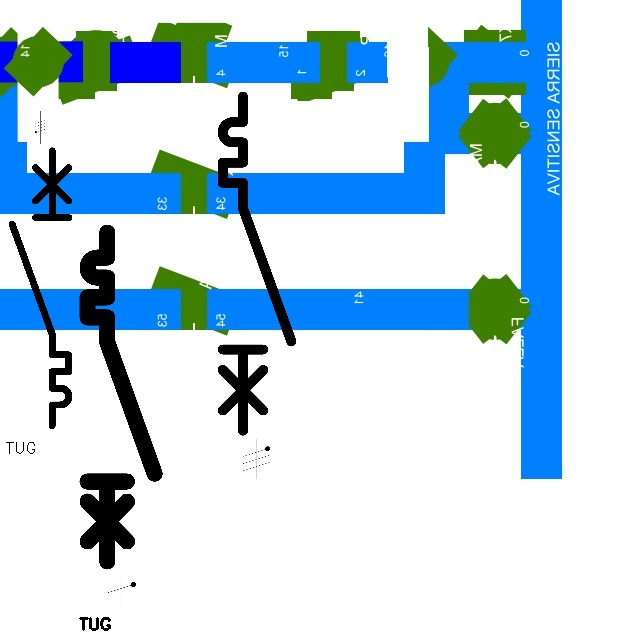interruptor_termomagnetico: (214, 88, 300, 439), (79, 224, 163, 570), (5, 143, 76, 432)
